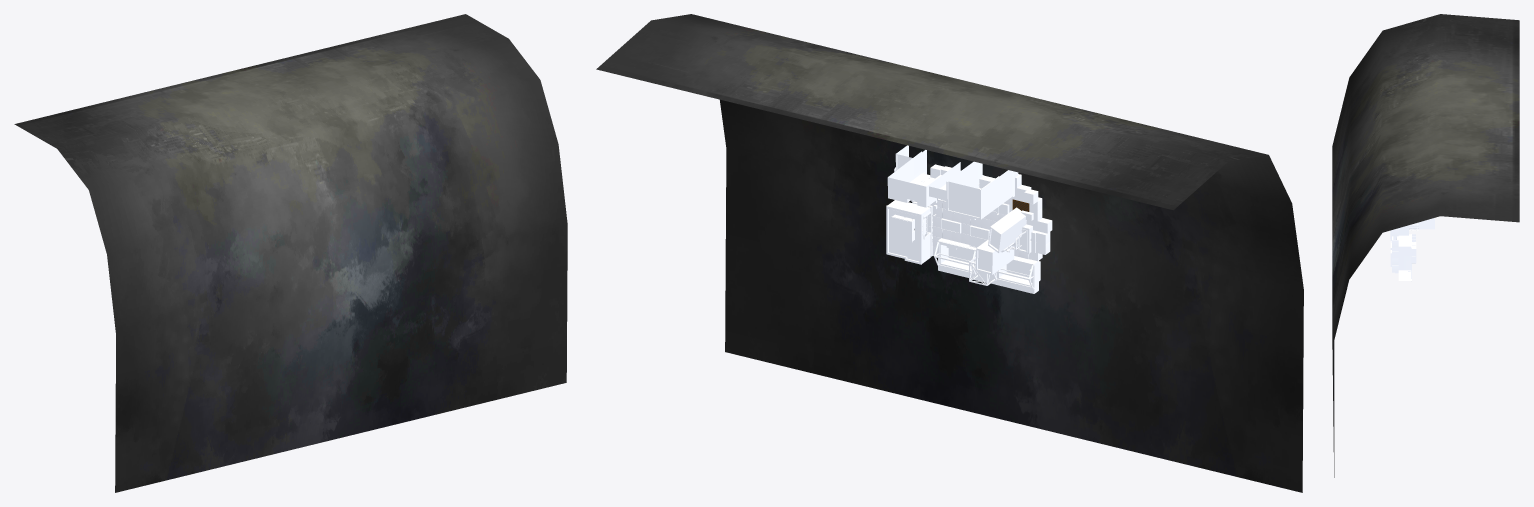
Rendered from BATTLE.fbx.
The picture shows the model from 3 angles, left to right: view 1: azimuth 30°, elevation 25°; view 2: azimuth 150°, elevation 25°; view 3: azimuth 270°, elevation 25°; orthographic projection. The views are drawn at different scales.
Parts seen in each view (by area): view 1: BG_Qcity; view 2: BG_Qcity, S_Outworld_prop_0109, OP_132, polySurface684, OP_19, Shadow (5), OP_18, Shadow (4); view 3: BG_Qcity, OP_132, Shadow (4).
Boxes of the visible parts, left/top/right/bottom form: BG_Qcity: left=14, top=14, right=567, bottom=492; BG_Qcity: left=596, top=14, right=1303, bottom=492; S_Outworld_prop_0109: left=946, top=161, right=1018, bottom=219; OP_132: left=886, top=200, right=930, bottom=264; polySurface684: left=887, top=151, right=960, bottom=207; OP_19: left=996, top=256, right=1040, bottom=293; Shadow (5): left=988, top=207, right=1026, bottom=252; OP_18: left=938, top=238, right=976, bottom=279; Shadow (4): left=975, top=239, right=1014, bottom=274; BG_Qcity: left=1332, top=14, right=1519, bottom=477; OP_132: left=1398, top=234, right=1416, bottom=281; Shadow (4): left=1409, top=218, right=1434, bottom=229.
Size of the model in its own units: 0.6048 by 0.3861 by 0.2365.
